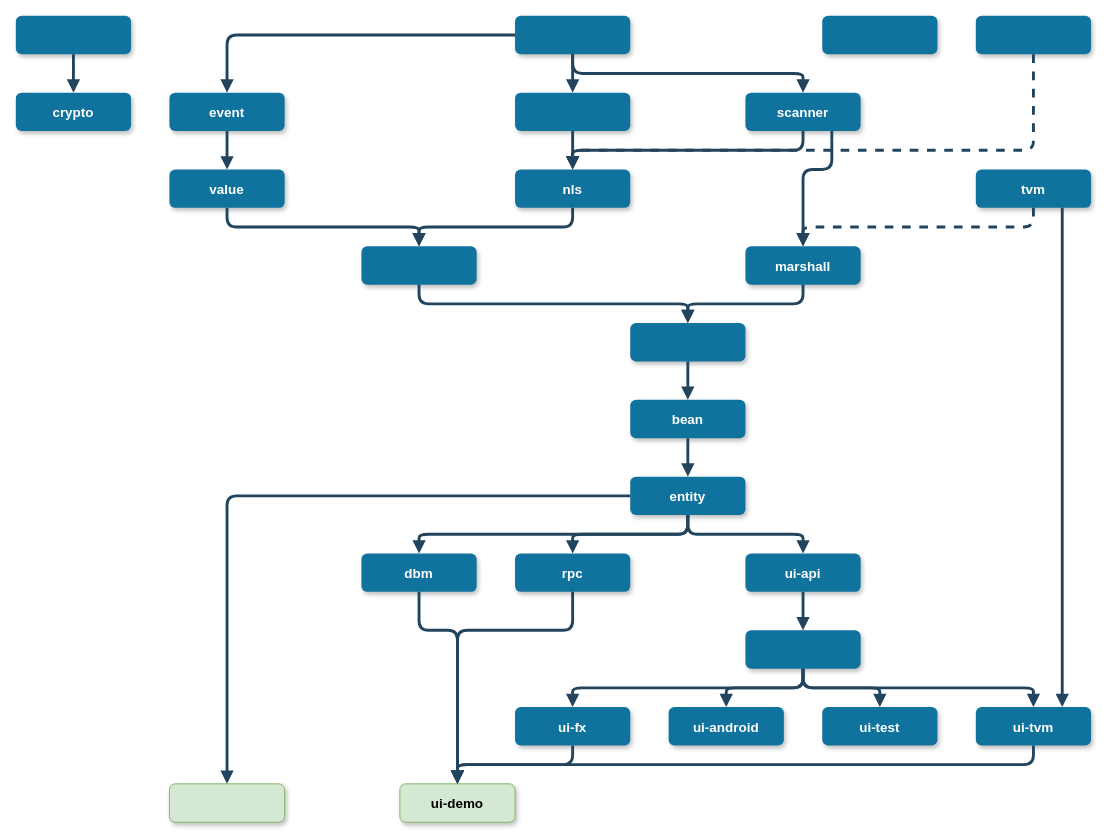
The diagram is 1107 pixels wide and 838 high, and some of its shapes have lost their labels. Here are the shapes that lost their labels. From the top down, the centre of each, then its label:
At pixel 74 36: "binary".
At pixel 573 36: "base".
At pixel 880 36: "code".
At pixel 1034 36: "l10n".
At pixel 573 112: "cli".
At pixel 419 266: "validation".
At pixel 688 343: "property".
At pixel 803 650: "ui-spi".
At pixel 227 804: "model".
